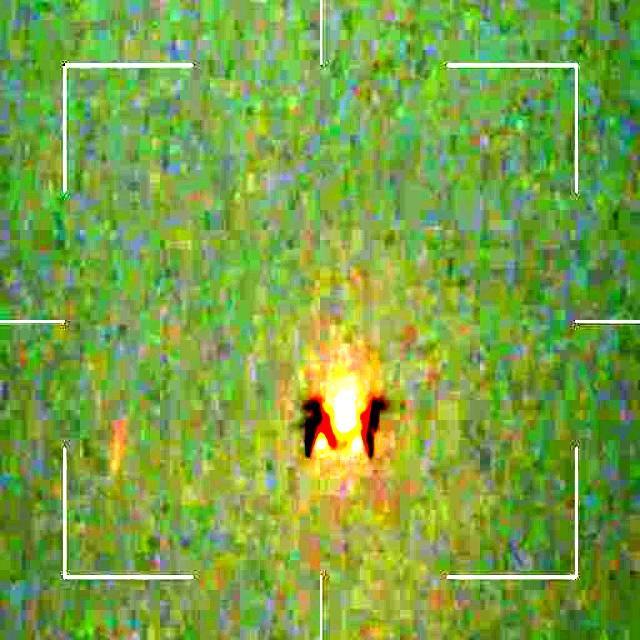bird: (298, 376, 391, 458)
